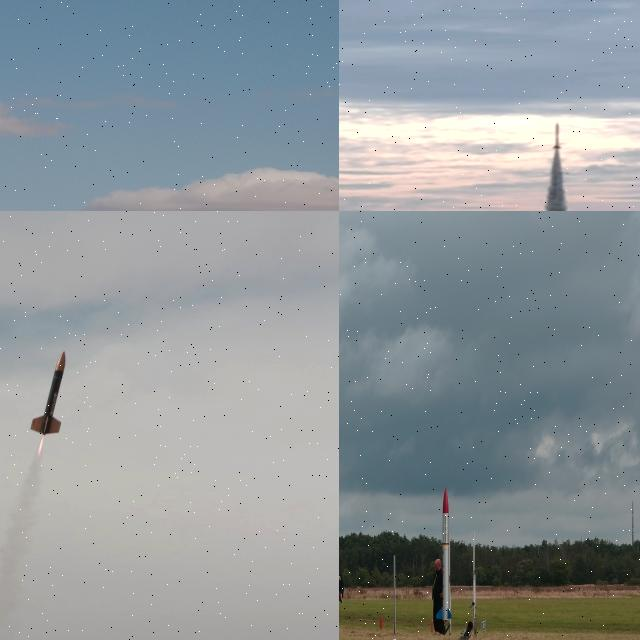Rocket: (29, 350, 66, 435), (436, 487, 452, 621), (552, 122, 560, 148)
